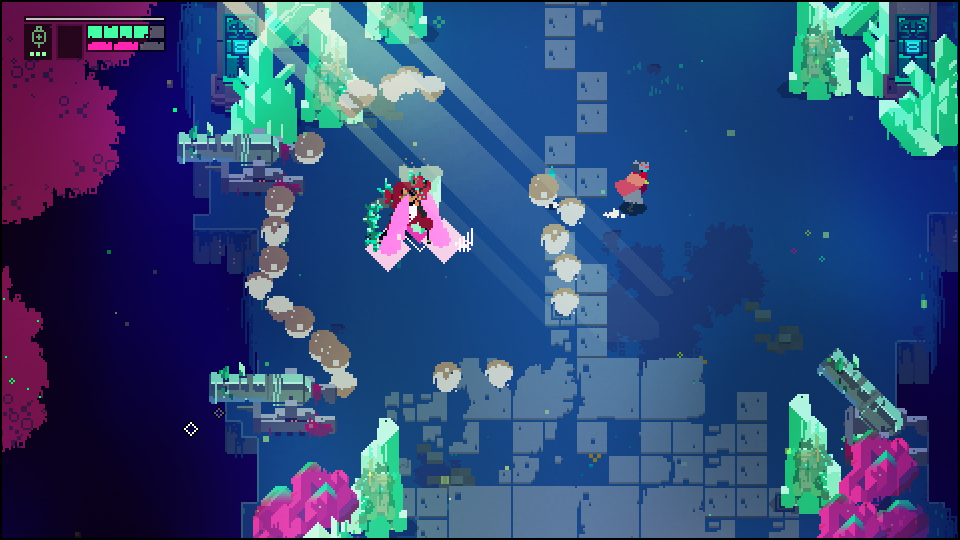hanged_man: (359, 168, 435, 253)
player: (617, 160, 648, 210)
